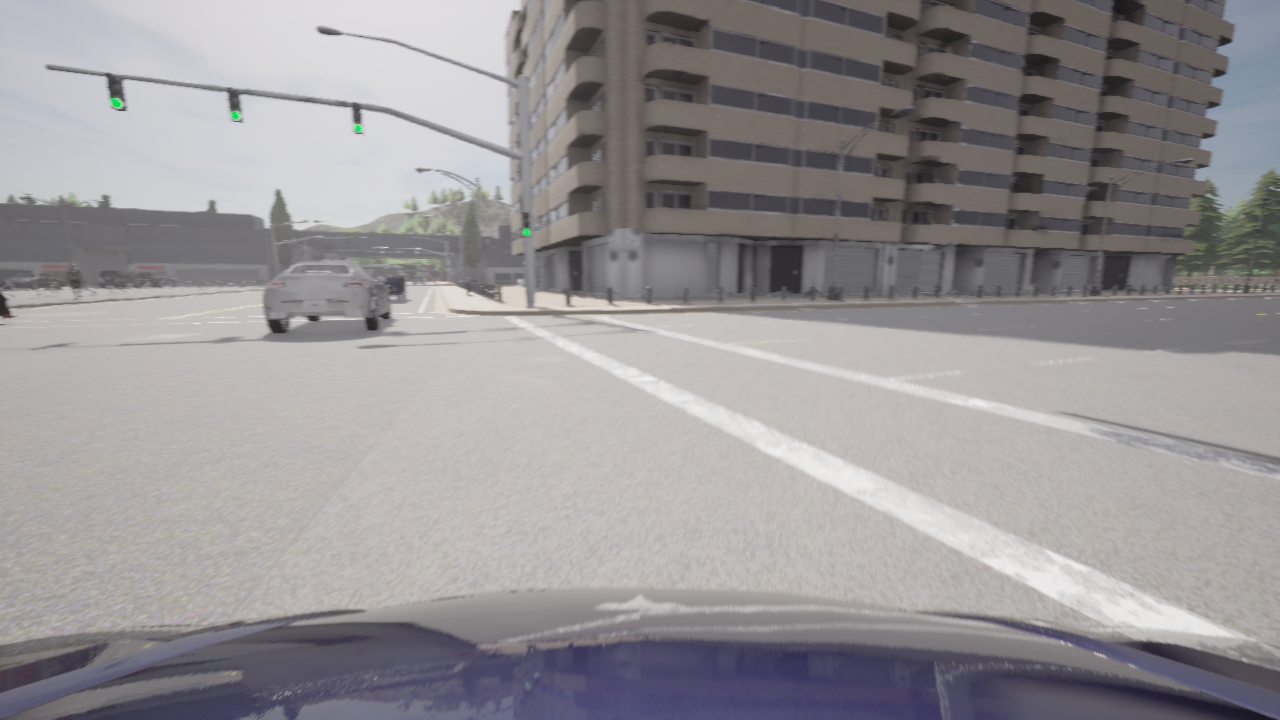cyclist: (0, 588, 1279, 719), (263, 260, 390, 333), (364, 264, 406, 301), (0, 274, 66, 289), (132, 271, 176, 287), (98, 270, 135, 288), (413, 275, 424, 284)
pedestrian: (66, 262, 83, 299), (464, 278, 470, 295)
